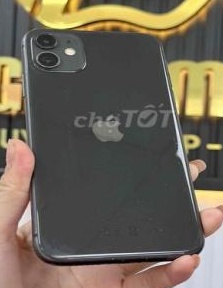scratch: (38, 181, 192, 261), (160, 126, 187, 168), (31, 31, 59, 68)
